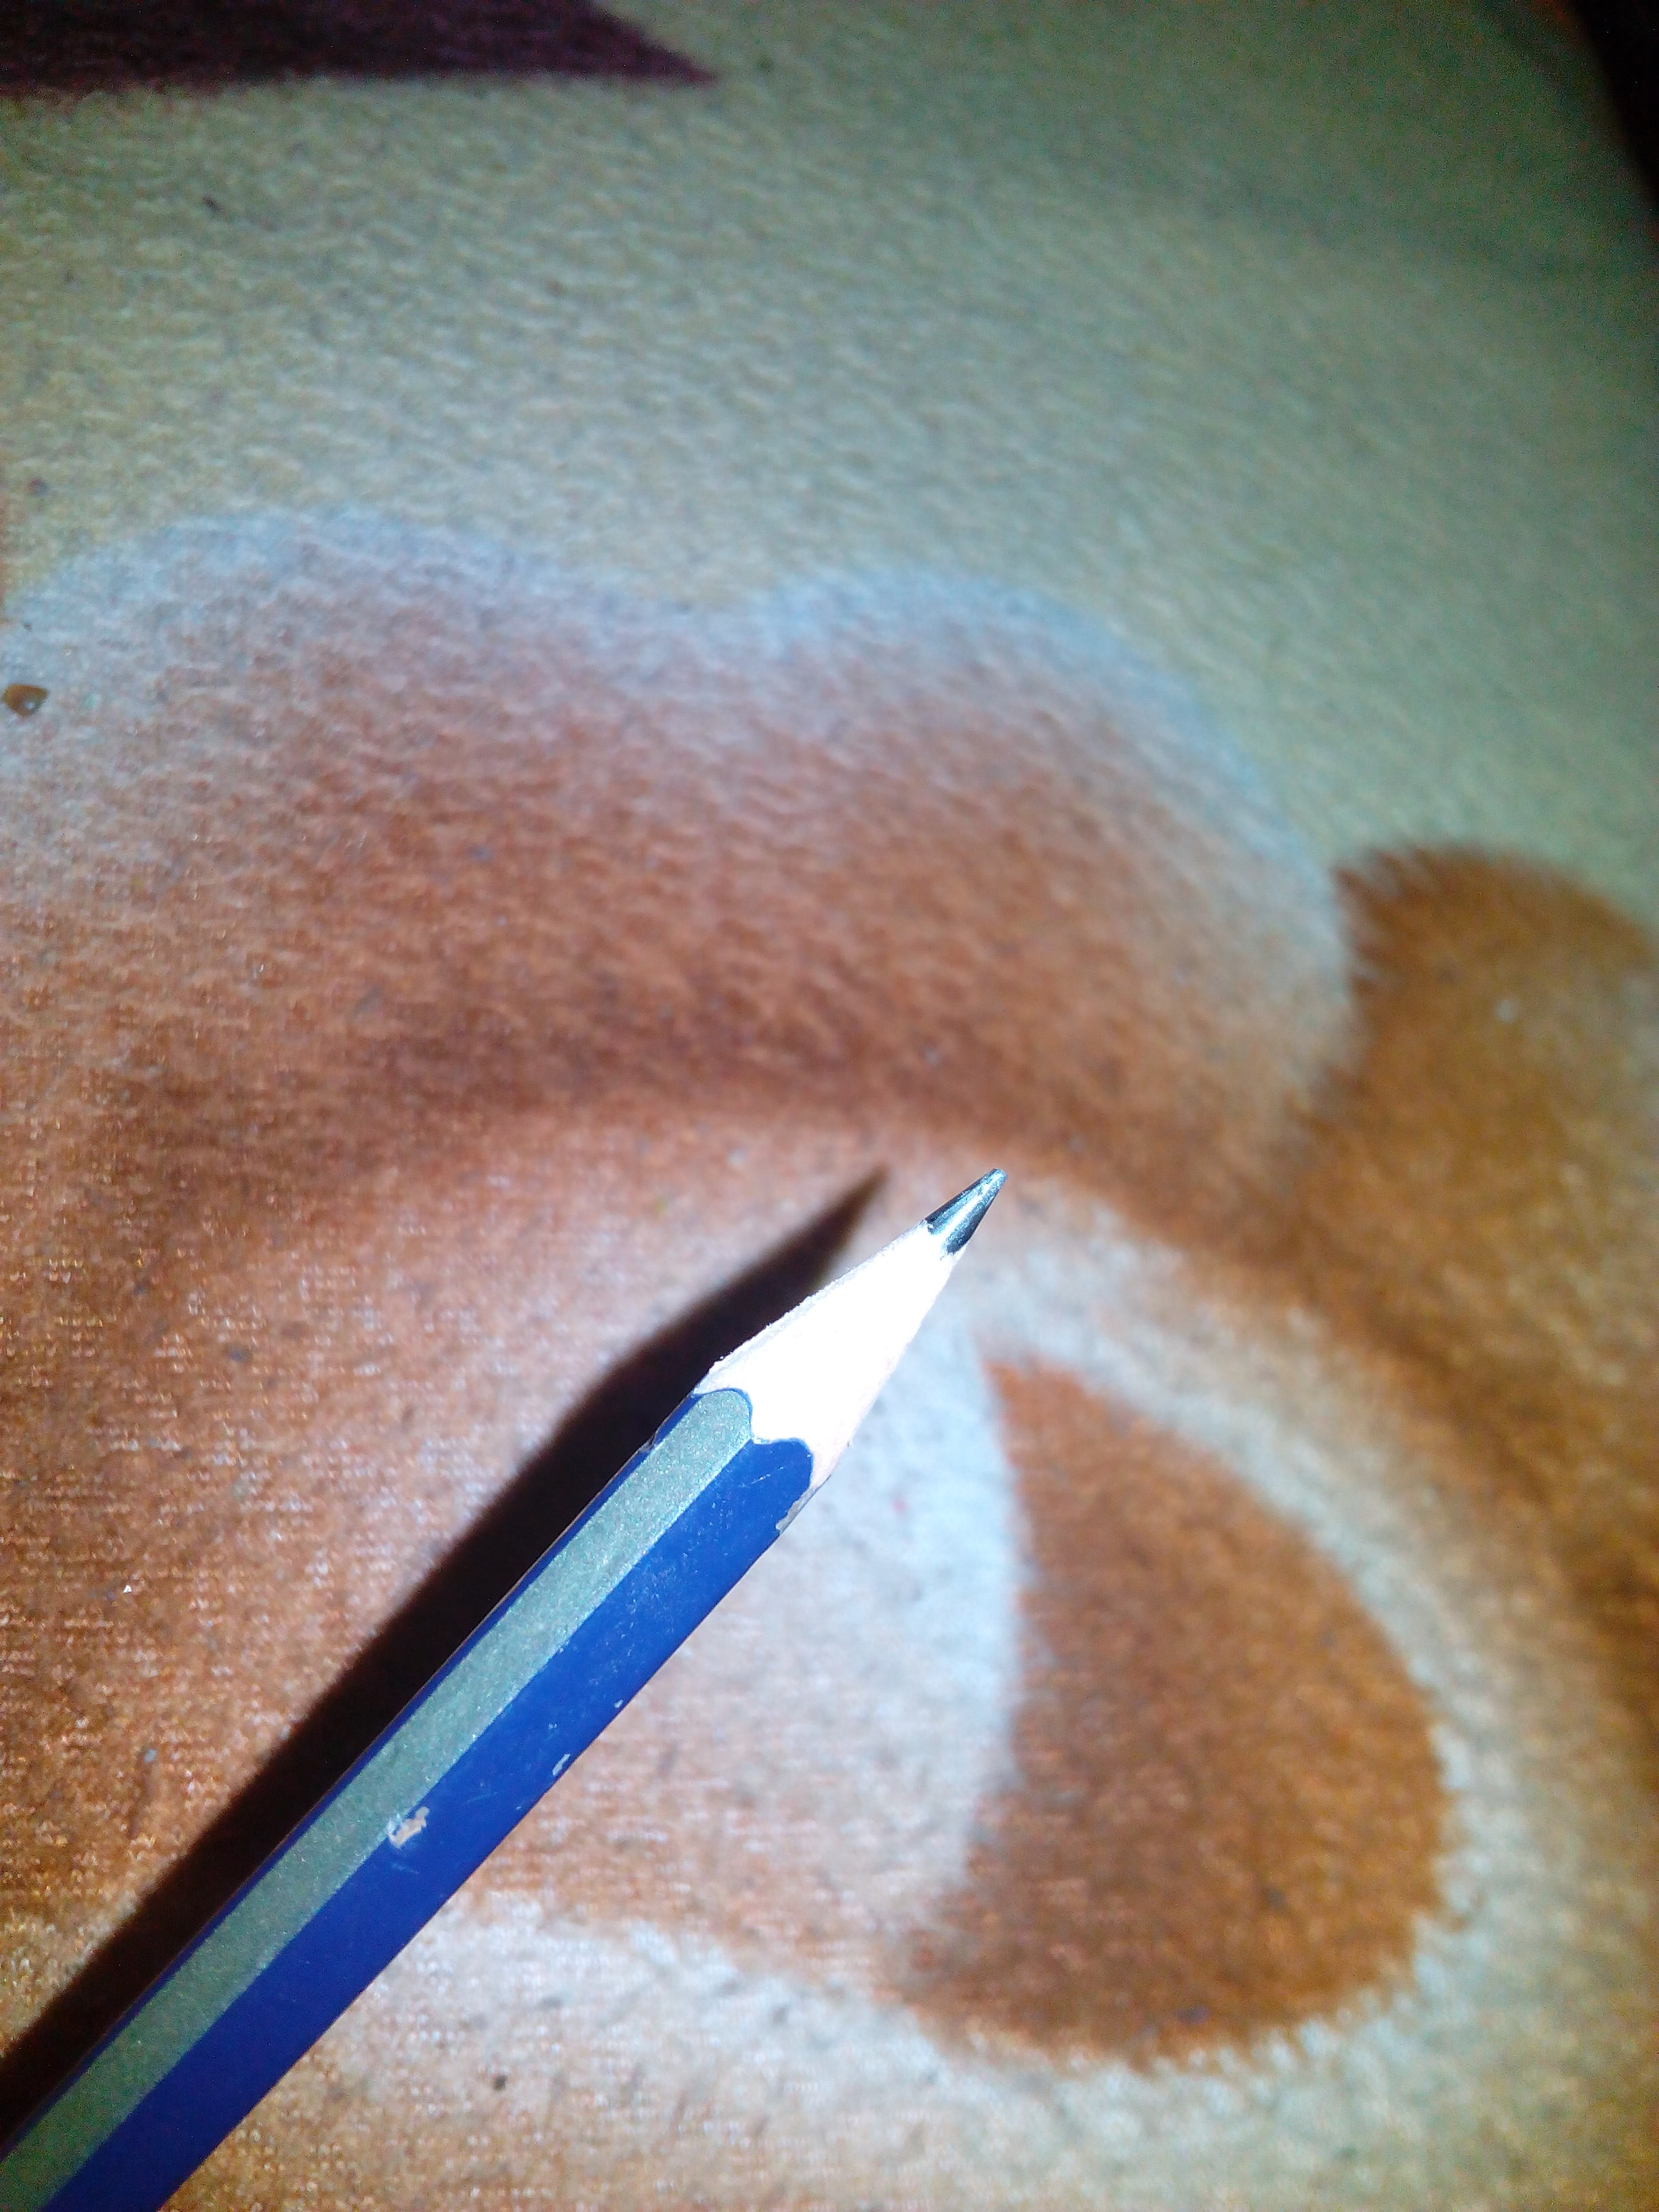pen_tip: (605, 1035, 1075, 1604)
